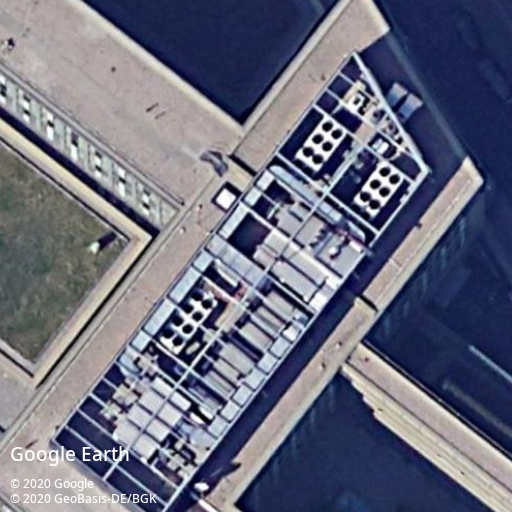Chiller: (156, 286, 219, 356), (294, 114, 348, 173), (352, 158, 406, 217)
